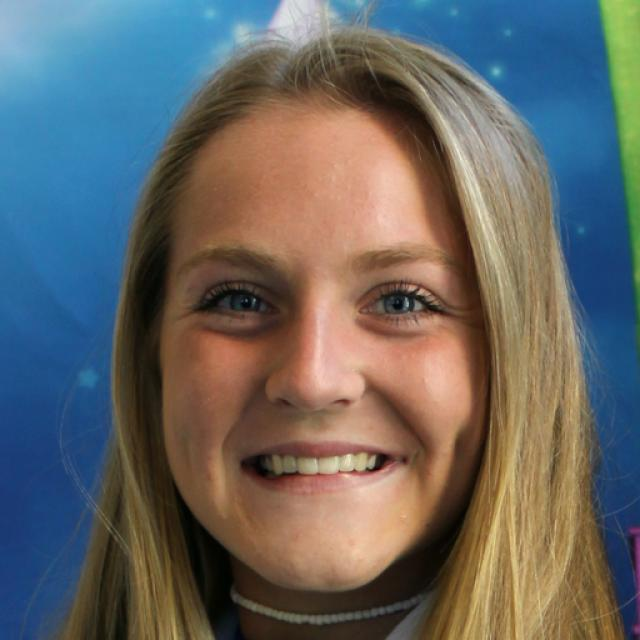Dark Circle: (199, 311, 281, 342), (354, 315, 445, 338)
